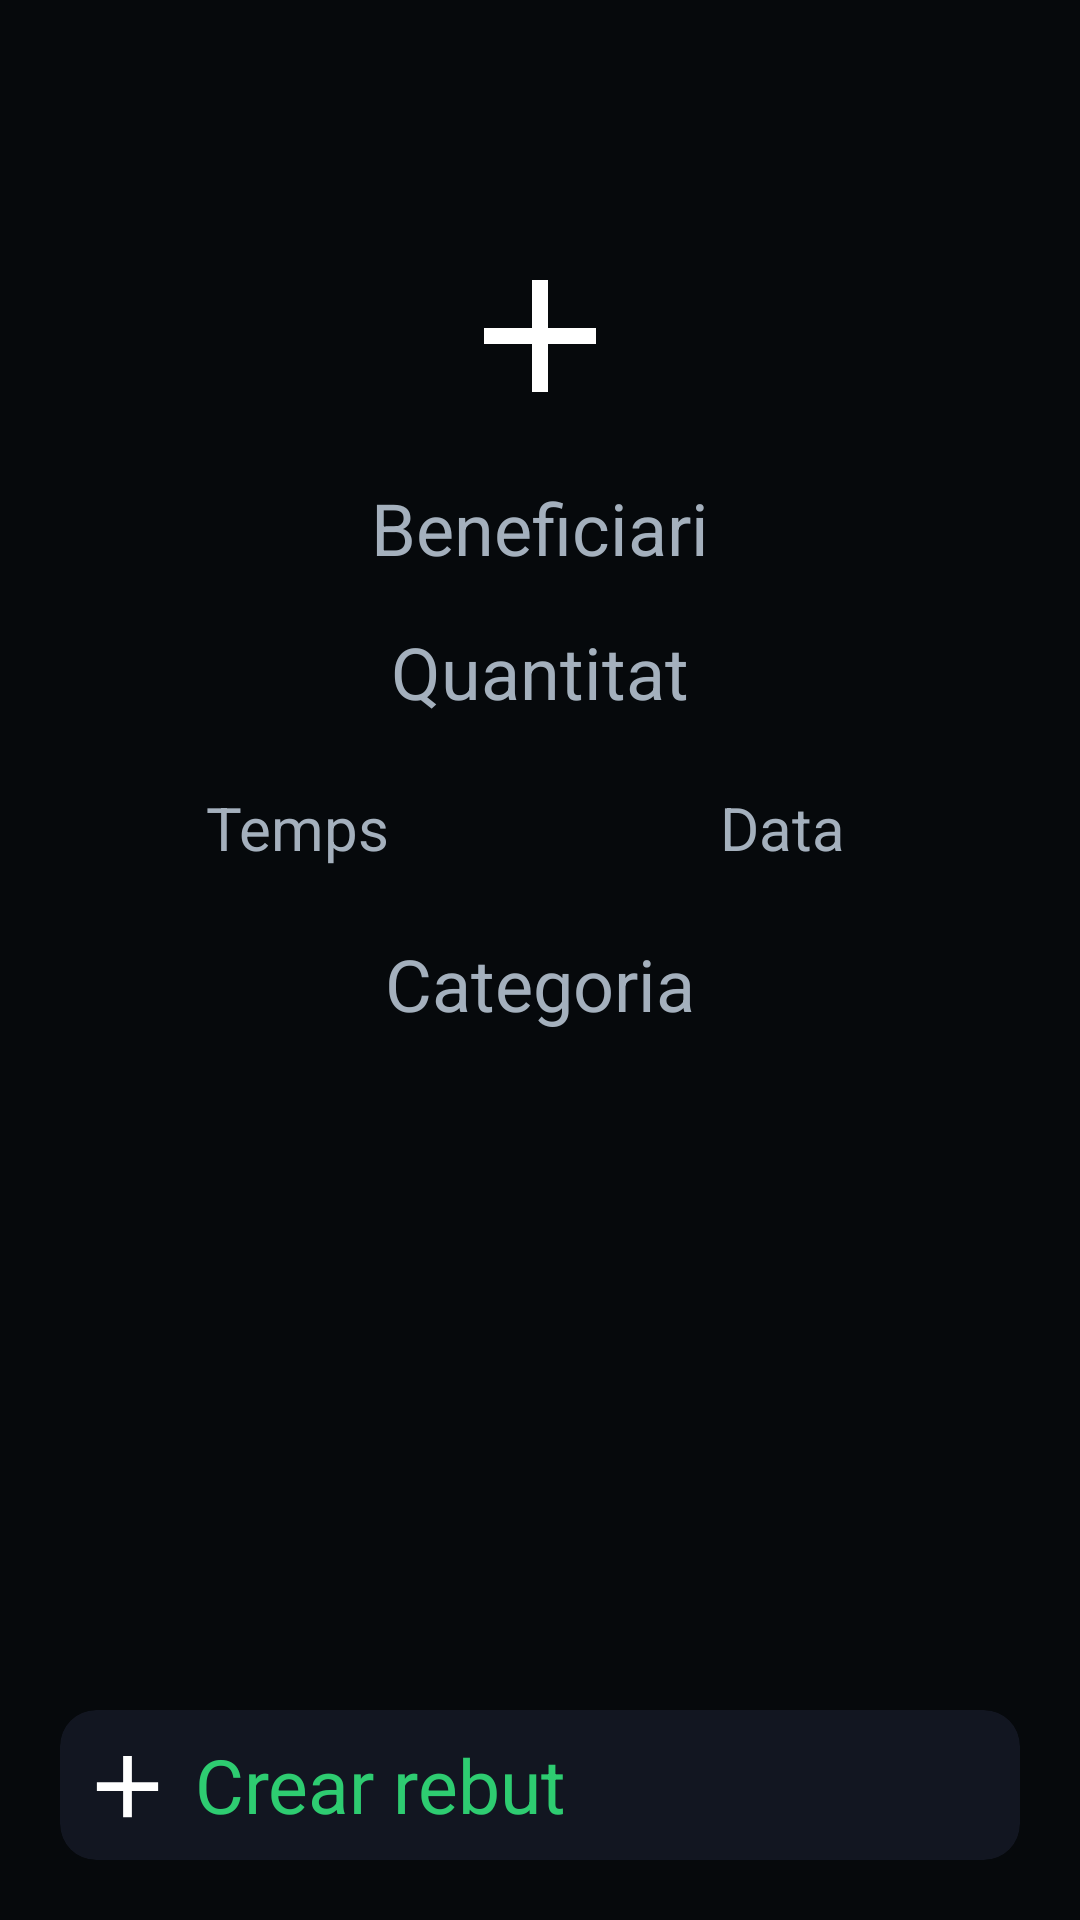

Icon bounding boxes for this 1080px x 1920px phone screenshot, format [x1, y1, x2, y2]:
add: [484, 280, 596, 392], [96, 1756, 159, 1818]
